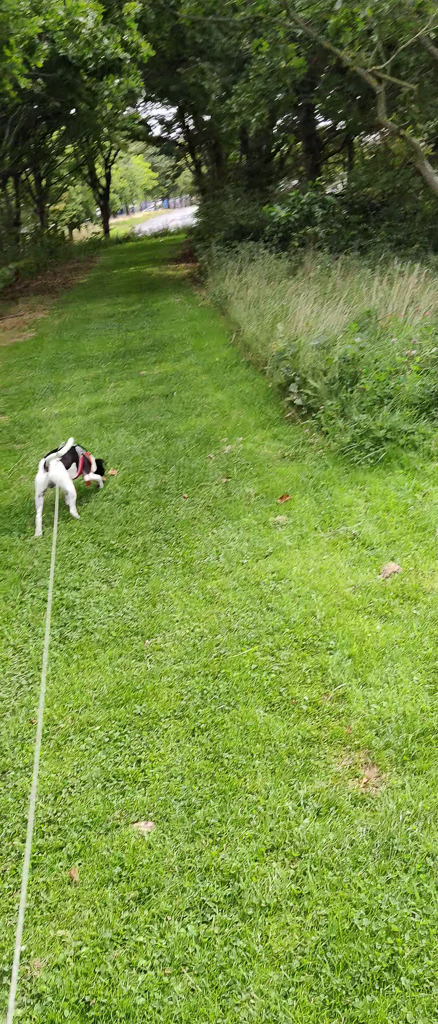Dog: (24, 429, 114, 543)
